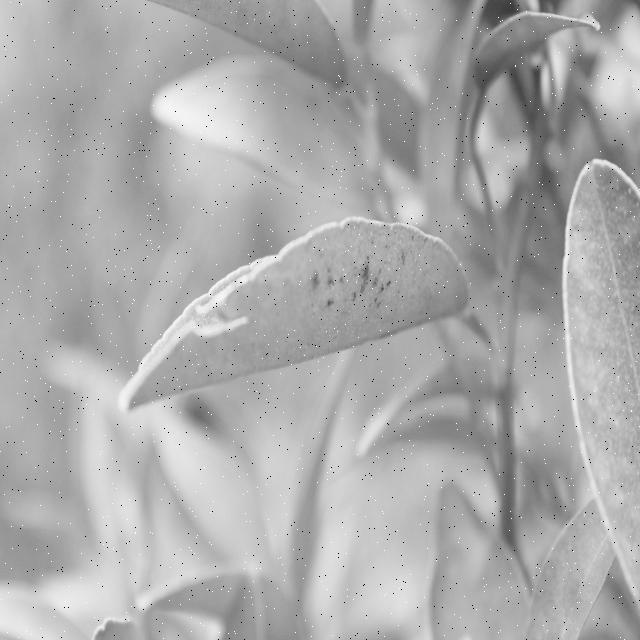melanose: (137, 219, 458, 409)
